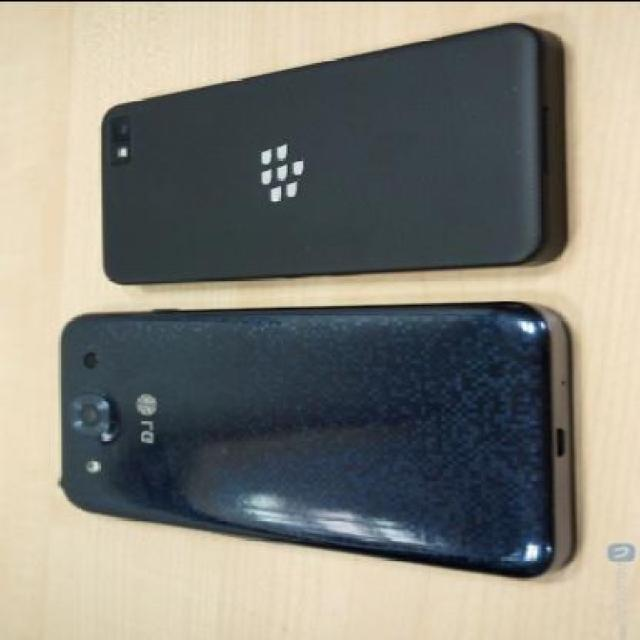phone: (57, 299, 573, 579), (101, 20, 565, 286)
